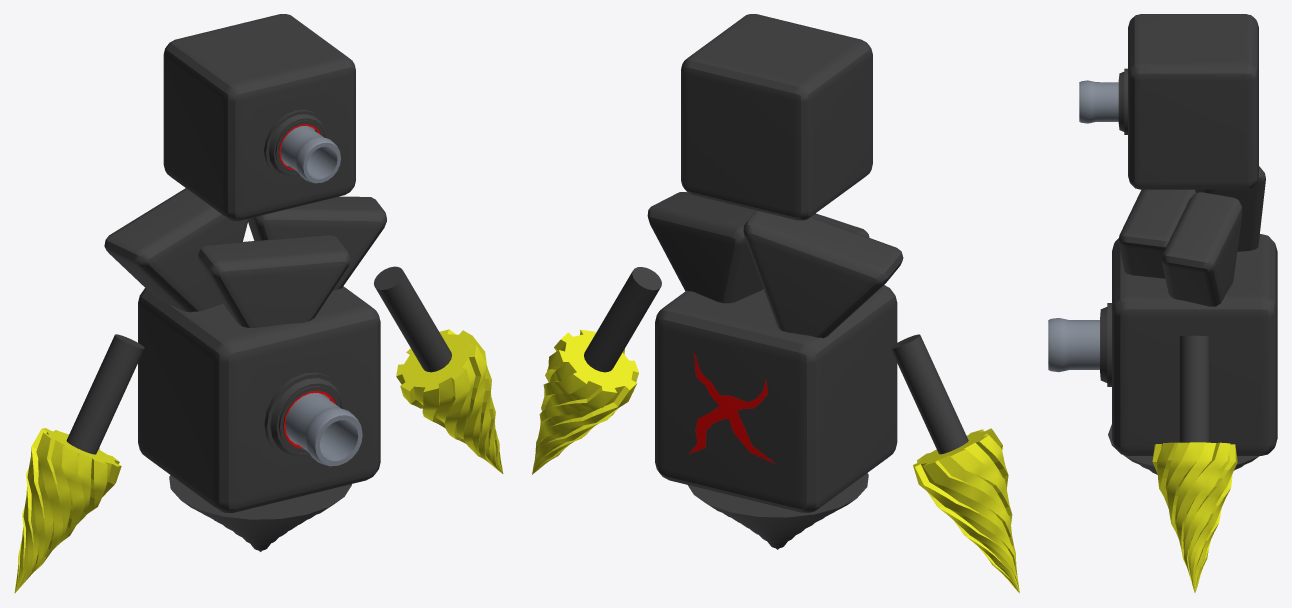
The model's file is Boss2.fbx.
The picture shows the model from 3 angles, left to right: view 1: azimuth 30°, elevation 25°; view 2: azimuth 150°, elevation 25°; view 3: azimuth 270°, elevation 25°; orthographic projection. The views are drawn at different scales.
Parts seen in each view (by area): view 1: polySurface1; view 2: polySurface1; view 3: polySurface1.
Boxes of the visible parts, left/top/right/bottom form: polySurface1: left=14, top=14, right=503, bottom=593; polySurface1: left=532, top=14, right=1019, bottom=593; polySurface1: left=1048, top=14, right=1277, bottom=593.
Size of the model in its own units: 57.61 by 56.65 by 25.51.
